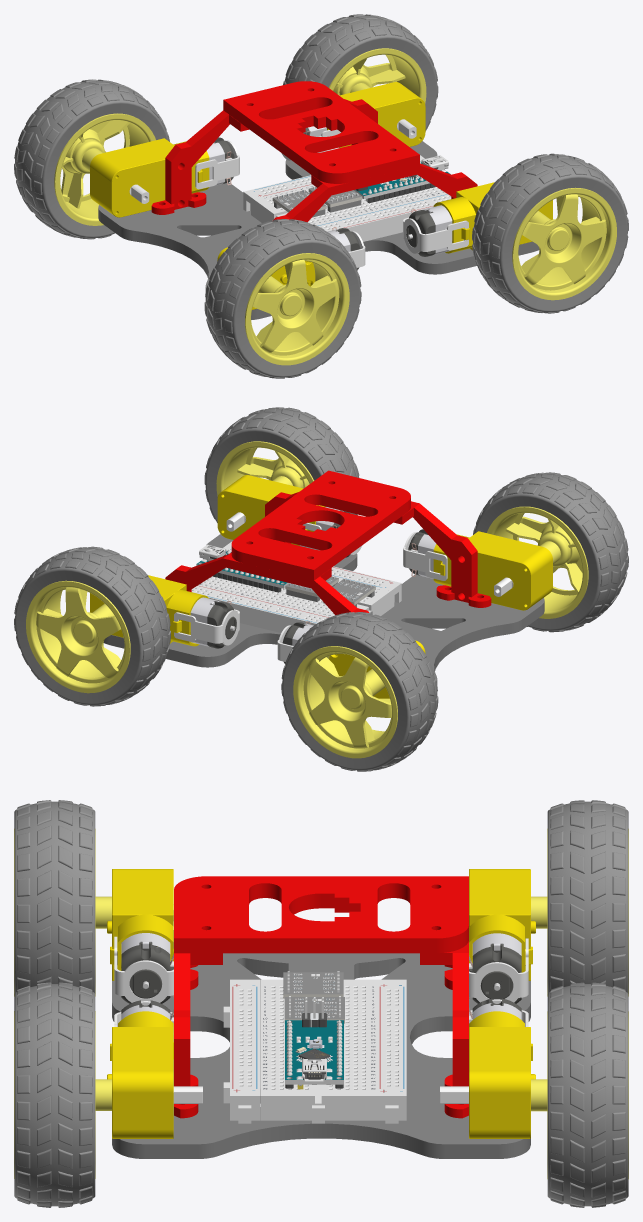
Rendered from three-dude-one-car.glb.
3 renders of one model, top to bottom at view 1: azimuth 30°, elevation 25°; view 2: azimuth 150°, elevation 25°; view 3: azimuth 270°, elevation 25°, orthographic. The views are drawn at different scales.
Parts seen in each view (by area): view 1: Wheel D65x25-2, Wheel D65x25-1, Wheel D65x25-4, Top-2, Base-1, Wheel D65x25-3, Mini Gear DC Motor 6 V Yellow.STEP-8, Breadboard 400-1, Mini Gear DC Motor 6 V Yellow.STEP-4, Racket-3, Mini Gear DC Motor 6 V Yellow.STEP-7, Racket-4 (+4 smaller); view 2: Wheel D65x25-4, Wheel D65x25-3, Wheel D65x25-2, Top-2, Base-1, Wheel D65x25-1, Mini Gear DC Motor 6 V Yellow.STEP-1, Breadboard 400-1, Mini Gear DC Motor 6 V Yellow.STEP-7, Racket-4, Mini Gear DC Motor 6 V Yellow.STEP-4, Racket-3 (+3 smaller); view 3: Base-1, Top-2, Breadboard 400-1, Wheel D65x25-3, Wheel D65x25-1, Wheel D65x25-2, Wheel D65x25-4, Mini Gear DC Motor 6 V Yellow.STEP-7, Mini Gear DC Motor 6 V Yellow.STEP-4, Mini Gear DC Motor 6 V Yellow.STEP-1, Mini Gear DC Motor 6 V Yellow.STEP-8, arduino nano-1 (+4 smaller).
Boxes of the visible parts, x1=… form: Wheel D65x25-2: x1=204, y1=219, x2=361, y2=378; Wheel D65x25-1: x1=472, y1=153, x2=628, y2=313; Wheel D65x25-4: x1=14, y1=79, x2=169, y2=239; Top-2: x1=223, y1=81, x2=419, y2=183; Base-1: x1=98, y1=141, x2=539, y2=319; Wheel D65x25-3: x1=283, y1=14, x2=438, y2=130; Mini Gear DC Motor 6 V Yellow.STEP-8: x1=90, y1=137, x2=239, y2=217; Breadboard 400-1: x1=243, y1=155, x2=451, y2=241; Mini Gear DC Motor 6 V Yellow.STEP-4: x1=403, y1=182, x2=552, y2=256; Racket-3: x1=151, y1=99, x2=377, y2=214; Mini Gear DC Motor 6 V Yellow.STEP-7: x1=281, y1=82, x2=425, y2=160; Racket-4: x1=273, y1=163, x2=477, y2=222; Wheel D65x25-4: x1=281, y1=612, x2=438, y2=771; Wheel D65x25-3: x1=14, y1=546, x2=170, y2=706; Wheel D65x25-2: x1=473, y1=472, x2=628, y2=632; Top-2: x1=231, y1=470, x2=410, y2=580; Base-1: x1=103, y1=534, x2=544, y2=684; Wheel D65x25-1: x1=204, y1=407, x2=359, y2=522; Mini Gear DC Motor 6 V Yellow.STEP-1: x1=403, y1=529, x2=552, y2=610; Breadboard 400-1: x1=191, y1=541, x2=401, y2=632; Mini Gear DC Motor 6 V Yellow.STEP-7: x1=90, y1=575, x2=239, y2=648; Racket-4: x1=265, y1=492, x2=491, y2=607; Mini Gear DC Motor 6 V Yellow.STEP-4: x1=217, y1=475, x2=362, y2=557; Racket-3: x1=165, y1=552, x2=368, y2=615; Base-1: x1=112, y1=930, x2=530, y2=1158; Top-2: x1=174, y1=876, x2=468, y2=953; Breadboard 400-1: x1=223, y1=979, x2=406, y2=1123; Wheel D65x25-3: x1=531, y1=982, x2=628, y2=1207; Wheel D65x25-1: x1=14, y1=982, x2=111, y2=1207; Wheel D65x25-2: x1=14, y1=800, x2=111, y2=996; Wheel D65x25-4: x1=531, y1=800, x2=628, y2=996; Mini Gear DC Motor 6 V Yellow.STEP-7: x1=440, y1=998, x2=535, y2=1138; Mini Gear DC Motor 6 V Yellow.STEP-4: x1=107, y1=1000, x2=202, y2=1138; Mini Gear DC Motor 6 V Yellow.STEP-1: x1=107, y1=869, x2=173, y2=1003; Mini Gear DC Motor 6 V Yellow.STEP-8: x1=469, y1=869, x2=535, y2=1003; arduino nano-1: x1=285, y1=997, x2=343, y2=1089.
Bounding box in the file's own units: 0.2009 × 0.0689 × 0.188.
